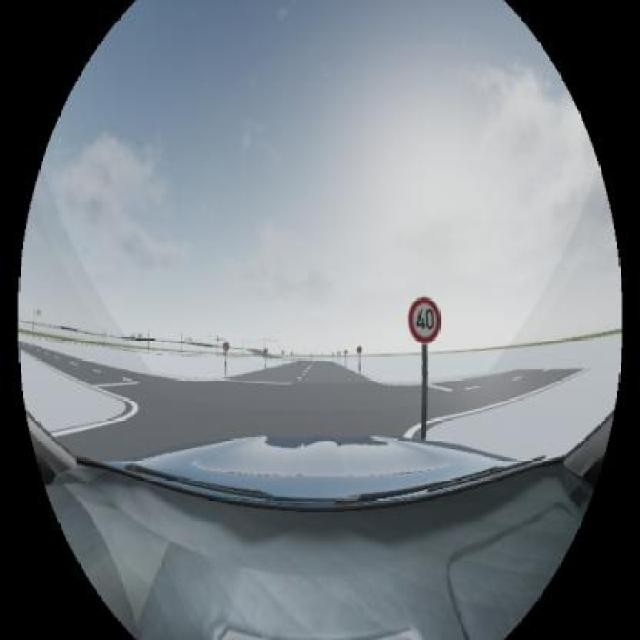forb_speed_over_40: (408, 295, 442, 344)
